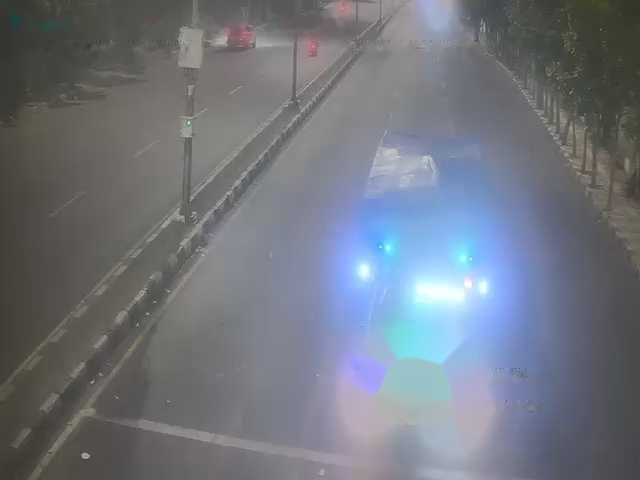Mobil: (229, 28, 256, 50)
Motor: (309, 40, 318, 57)
Truk: (358, 140, 490, 407)
